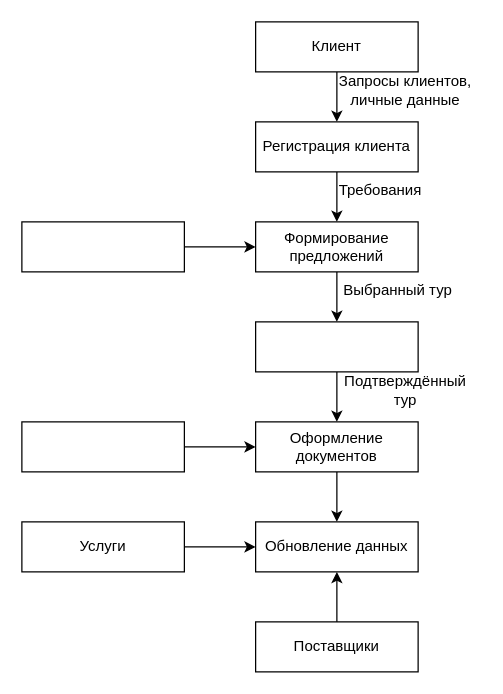
Image size: 503x694. Some labels were removed from this diagram. Here are the shapes that lost their labels. From the top down, the box of each, then its label:
(21, 221, 184, 272): Данные туров
(254, 321, 418, 372): Бронирование услуг
(21, 421, 184, 472): Документы клиента
